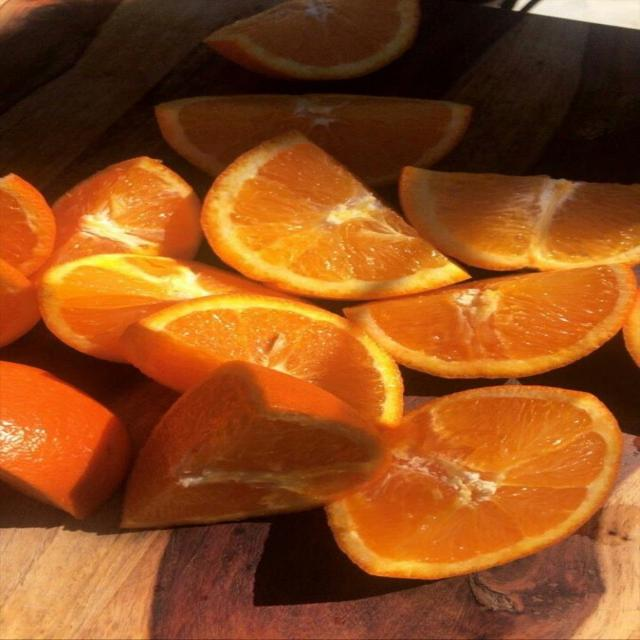orange: (328, 386, 621, 579), (202, 132, 468, 299), (123, 362, 388, 527), (121, 294, 402, 425), (346, 265, 636, 378), (156, 94, 471, 185), (39, 254, 281, 361), (401, 167, 639, 270), (0, 362, 130, 518), (205, 0, 420, 79), (46, 157, 201, 266), (0, 174, 55, 275), (0, 259, 39, 347), (623, 291, 639, 366)
